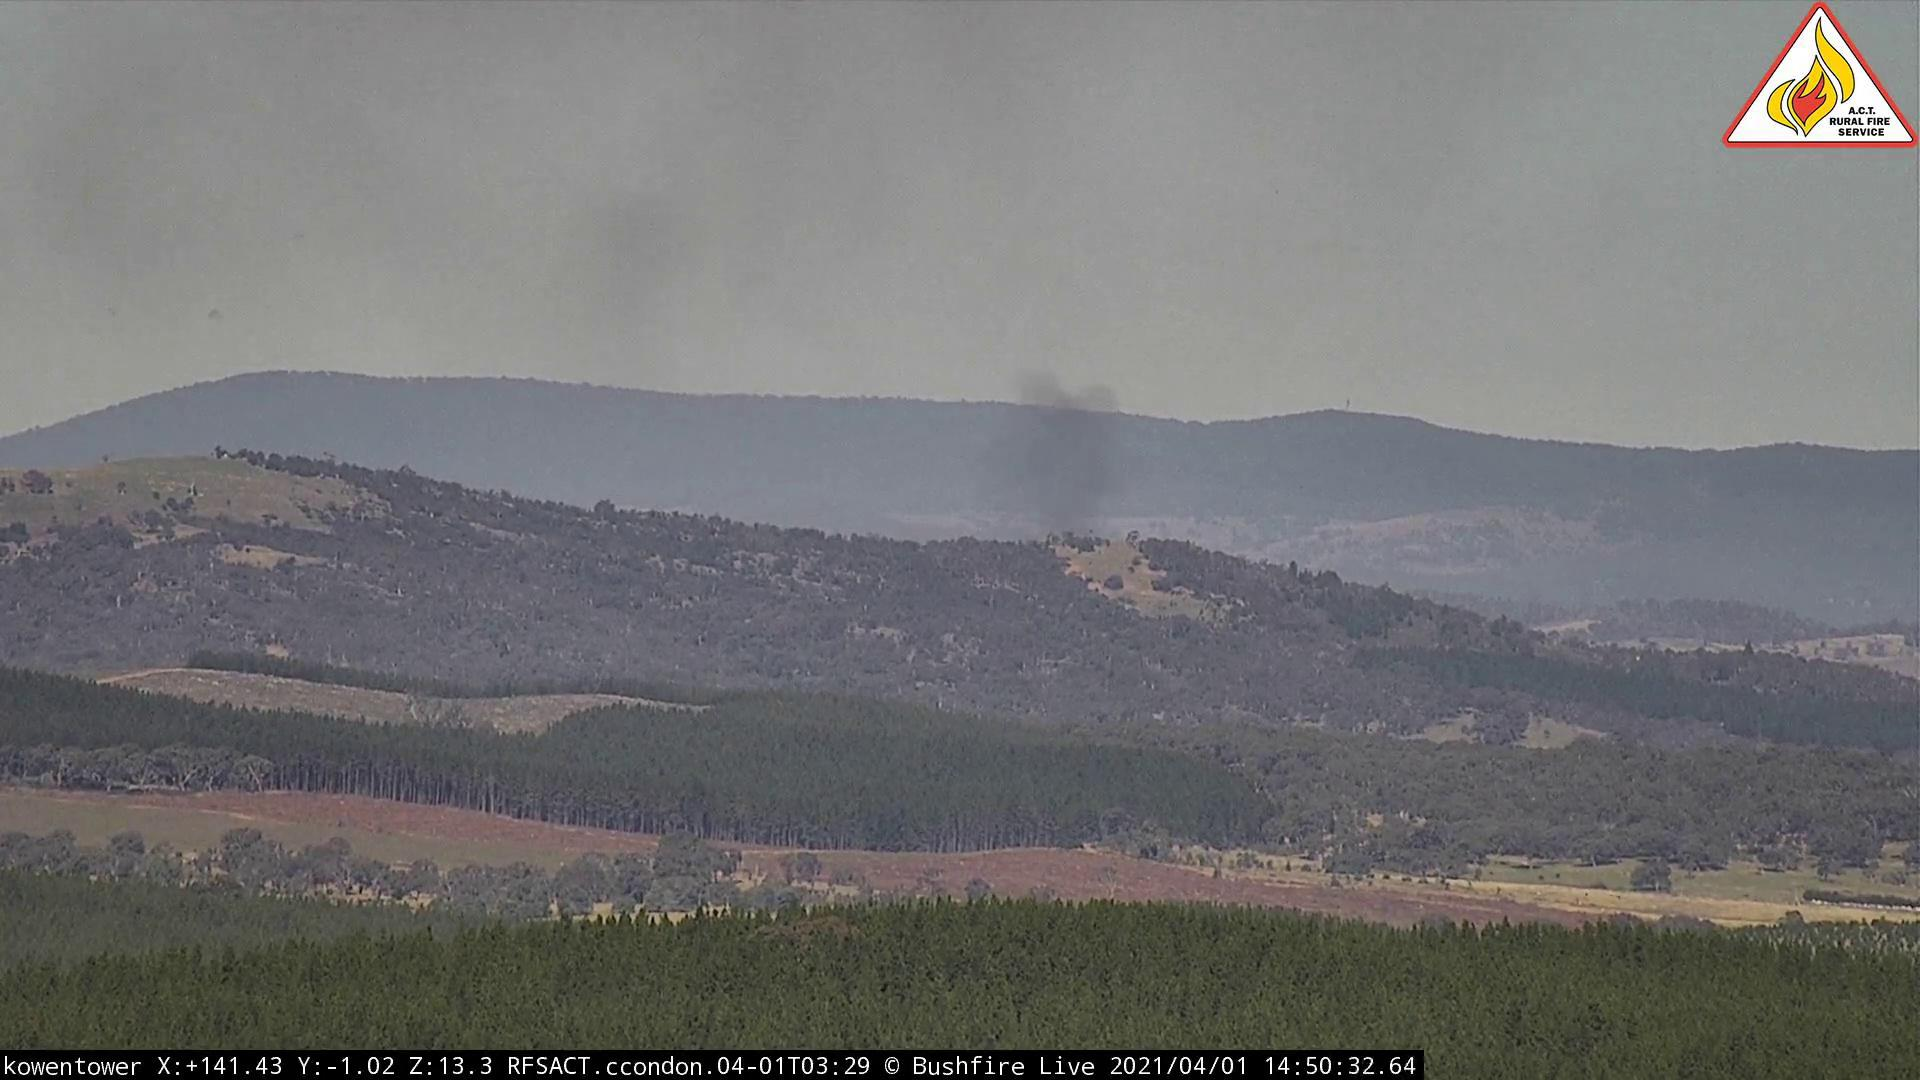instance_salient_object: (483, 75, 1164, 527)
